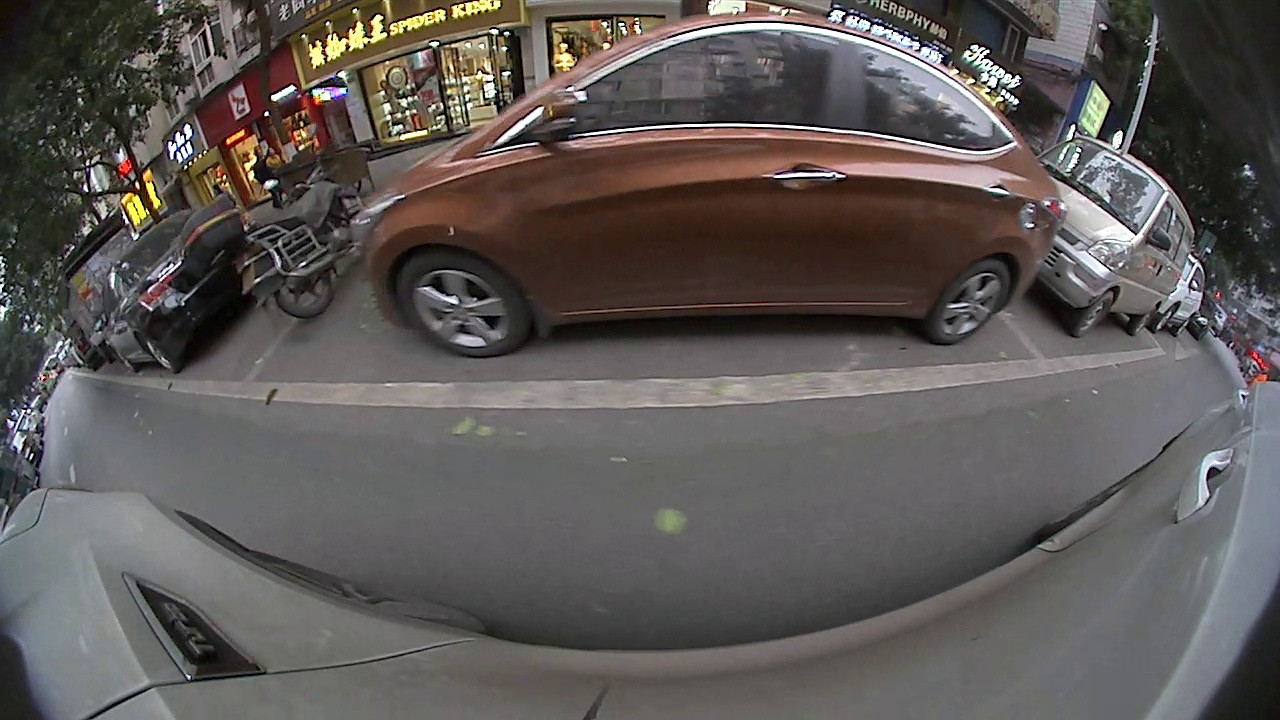car: (303, 33, 757, 289), (852, 62, 1183, 403), (76, 210, 175, 308), (1172, 303, 1202, 413), (139, 184, 207, 228)
front: (501, 186, 592, 287), (1112, 361, 1162, 406), (98, 284, 119, 307)
person: (1188, 393, 1247, 457), (705, 36, 723, 113), (641, 31, 660, 93)
rear: (979, 301, 1076, 384), (320, 164, 358, 226), (1143, 377, 1174, 403), (171, 208, 186, 223)
